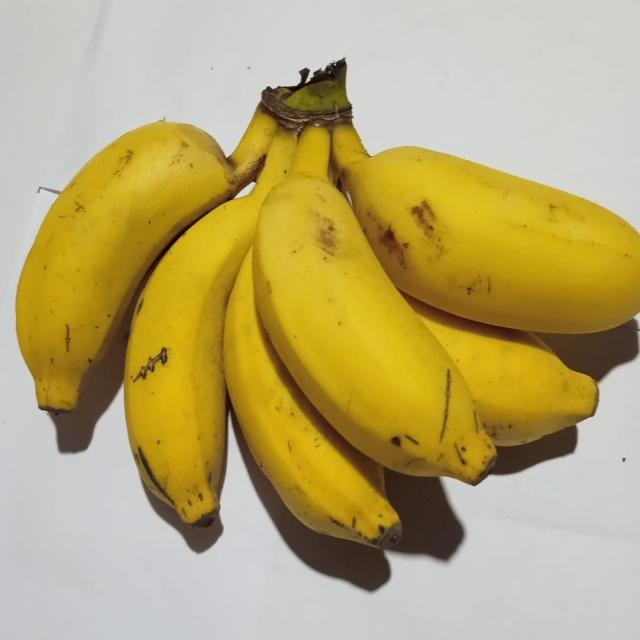banana: (253, 127, 495, 484), (16, 109, 276, 412), (124, 131, 295, 526), (333, 124, 639, 332), (224, 251, 401, 548), (406, 295, 598, 445)
